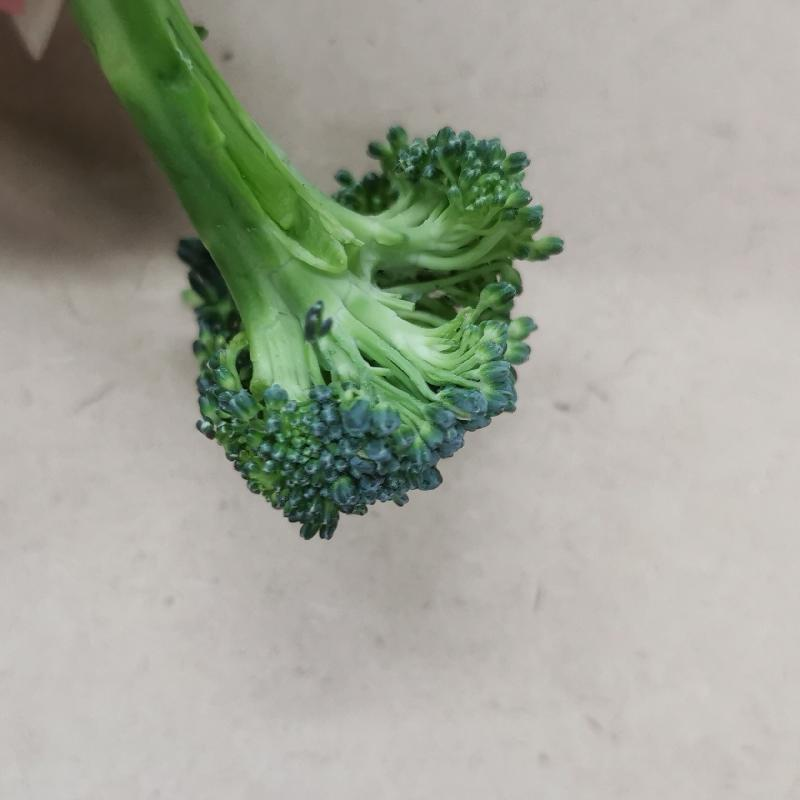broccoli: (74, 0, 568, 554)
